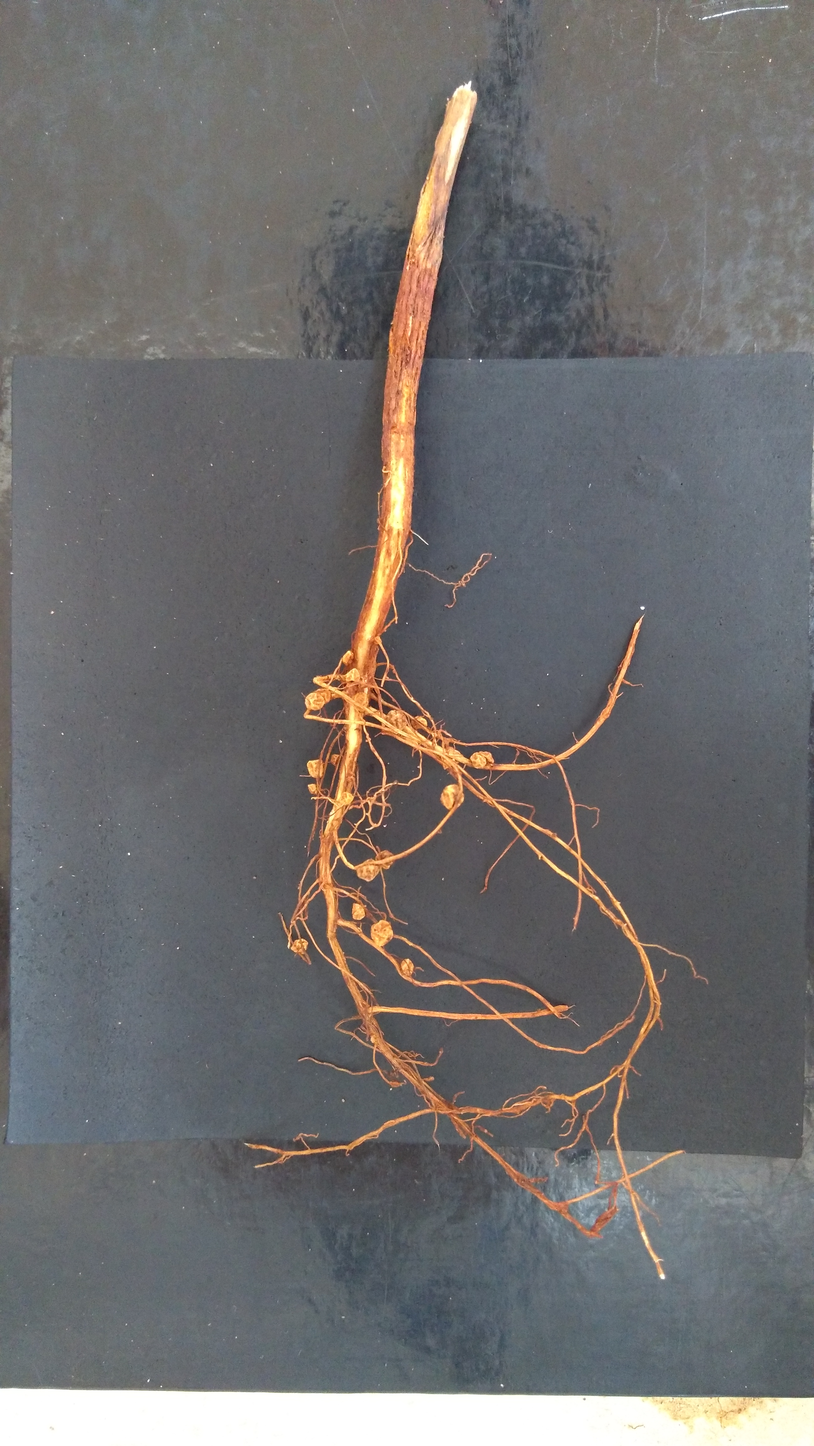nodule: (439, 783, 465, 812), (369, 919, 394, 949), (355, 857, 381, 883), (385, 707, 408, 736), (440, 745, 463, 770), (375, 848, 397, 871), (302, 691, 326, 712), (351, 690, 371, 715), (305, 757, 326, 779), (289, 936, 309, 957), (469, 751, 488, 770), (350, 902, 367, 922), (336, 790, 355, 807), (345, 667, 362, 686), (411, 714, 429, 731), (400, 957, 415, 977), (314, 688, 331, 704), (478, 749, 494, 765), (341, 650, 356, 666), (306, 782, 317, 796), (373, 634, 382, 646)
